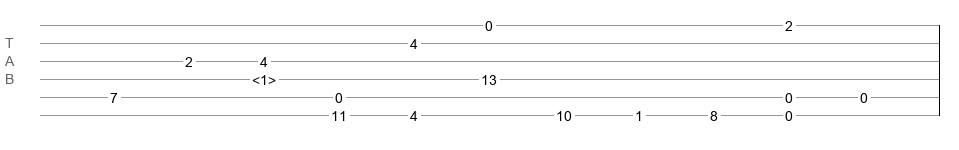0: (335, 90, 343, 100), (485, 18, 493, 28), (785, 90, 793, 100), (785, 108, 793, 118), (860, 90, 868, 100)
1: (635, 108, 643, 118)
10: (556, 108, 572, 118)
11: (331, 108, 347, 118)
13: (481, 72, 497, 82)
2: (185, 54, 193, 64), (785, 18, 793, 28)
4: (260, 54, 268, 64), (410, 108, 418, 118), (410, 36, 418, 46)
7: (110, 90, 118, 100)
8: (710, 108, 718, 118)
harmonic: (252, 72, 276, 82)
